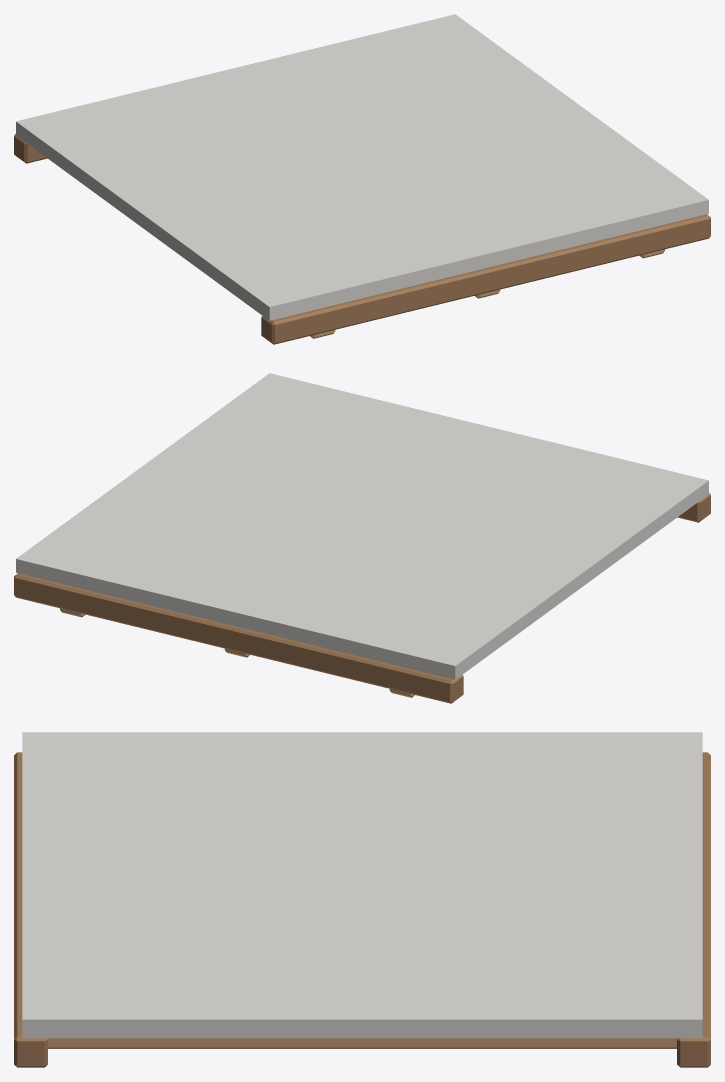
The model's file is env_ceiling_beams_01.glb.
3 renders of one model, top to bottom at view 1: azimuth 30°, elevation 25°; view 2: azimuth 150°, elevation 25°; view 3: azimuth 270°, elevation 25°, orthographic. The views are drawn at different scales.
Visible parts, largest first — view 1: env_ceiling_beams_01_body; view 2: env_ceiling_beams_01_body; view 3: env_ceiling_beams_01_body.
Part boxes in pixels (box(x1,y1,x2,y2)): env_ceiling_beams_01_body: box(14, 14, 710, 344); env_ceiling_beams_01_body: box(14, 373, 710, 703); env_ceiling_beams_01_body: box(14, 732, 710, 1067).
Bounding box in the file's own units: 4 × 0.95 × 4.1.
